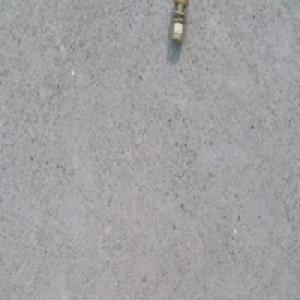BoltNutSet: (169, 0, 191, 44)
